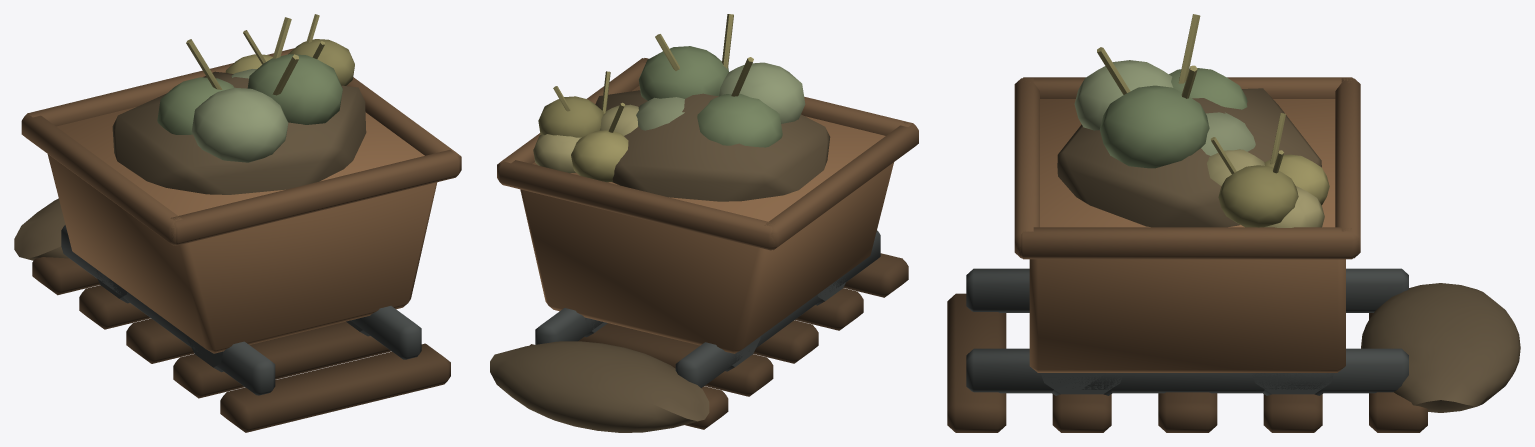
The model's file is ore_cart_stub_c.glb.
The picture shows the model from 3 angles, left to right: view 1: azimuth 30°, elevation 25°; view 2: azimuth 150°, elevation 25°; view 3: azimuth 270°, elevation 25°; orthographic projection. The views are drawn at different scales.
Parts seen in each view (by area): view 1: Surface; view 2: Surface; view 3: Surface.
Boxes of the visible parts, left/top/right/bottom form: Surface: left=14, top=14, right=461, bottom=432; Surface: left=490, top=14, right=918, bottom=432; Surface: left=947, top=14, right=1520, bottom=432.
Size of the model in its own units: 1.8 by 1.81 by 2.72.
